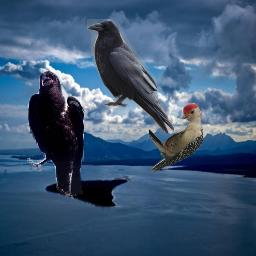Crow: (87, 19, 176, 136), (27, 70, 85, 199)
Woodpecker: (149, 103, 203, 175)
